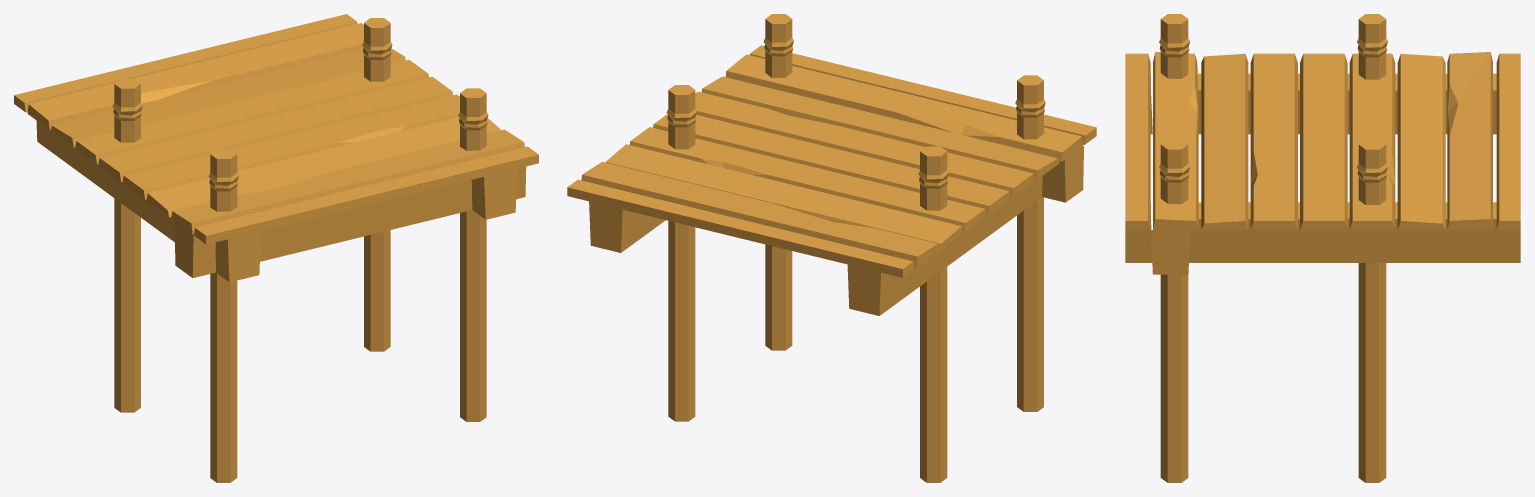
File: pier-tile-straight.glb
The picture shows the model from 3 angles, left to right: view 1: azimuth 30°, elevation 25°; view 2: azimuth 150°, elevation 25°; view 3: azimuth 270°, elevation 25°; orthographic projection. The views are drawn at different scales.
Parts seen in each view (by area): view 1: pier-tile-straight; view 2: pier-tile-straight; view 3: pier-tile-straight.
Boxes of the visible parts, left/top/right/bottom form: pier-tile-straight: left=14, top=14, right=538, bottom=482; pier-tile-straight: left=567, top=14, right=1096, bottom=482; pier-tile-straight: left=1125, top=14, right=1520, bottom=482.
Size of the model in its own units: 4 by 3.72 by 4.
